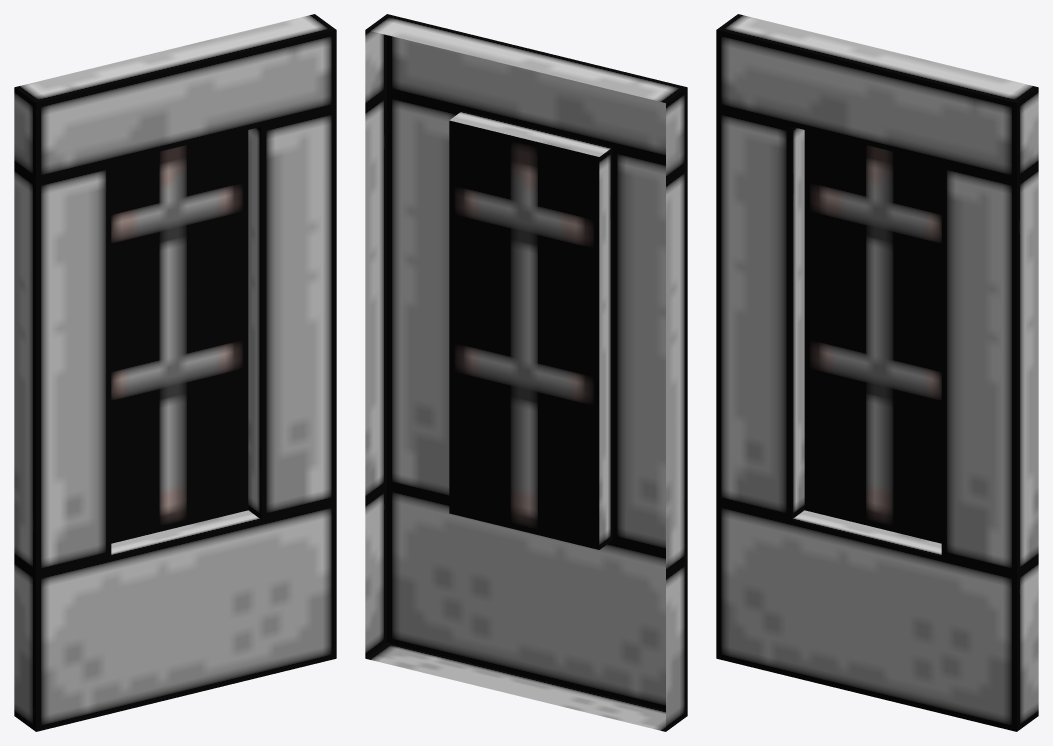
File: arch_window_stoneCell.FBX
3 renders of one model, left to right at view 1: azimuth 30°, elevation 25°; view 2: azimuth 150°, elevation 25°; view 3: azimuth 330°, elevation 25°, orthographic.
Visible parts, largest first — view 1: arch_window_stoneCell; view 2: arch_window_stoneCell; view 3: arch_window_stoneCell.
Part boxes in pixels (x1=…): arch_window_stoneCell: x1=14, y1=14, x2=336, y2=731; arch_window_stoneCell: x1=365, y1=14, x2=687, y2=731; arch_window_stoneCell: x1=716, y1=14, x2=1038, y2=731.
Bounding box in the file's own units: 1.5 × 3 × 0.1875.
Materials: 1 (1 with a texture image).
